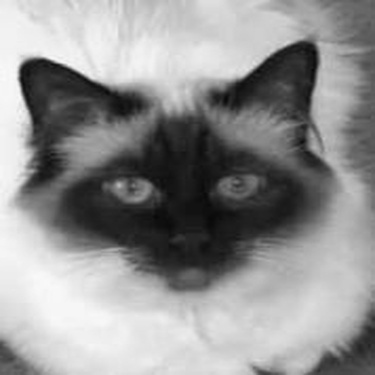cat: (1, 2, 368, 372)
